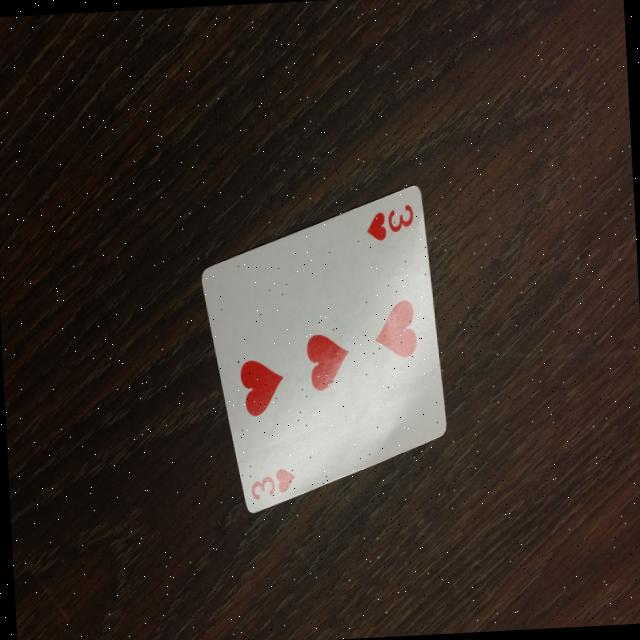3h: (356, 188, 424, 251), (244, 465, 306, 504)
